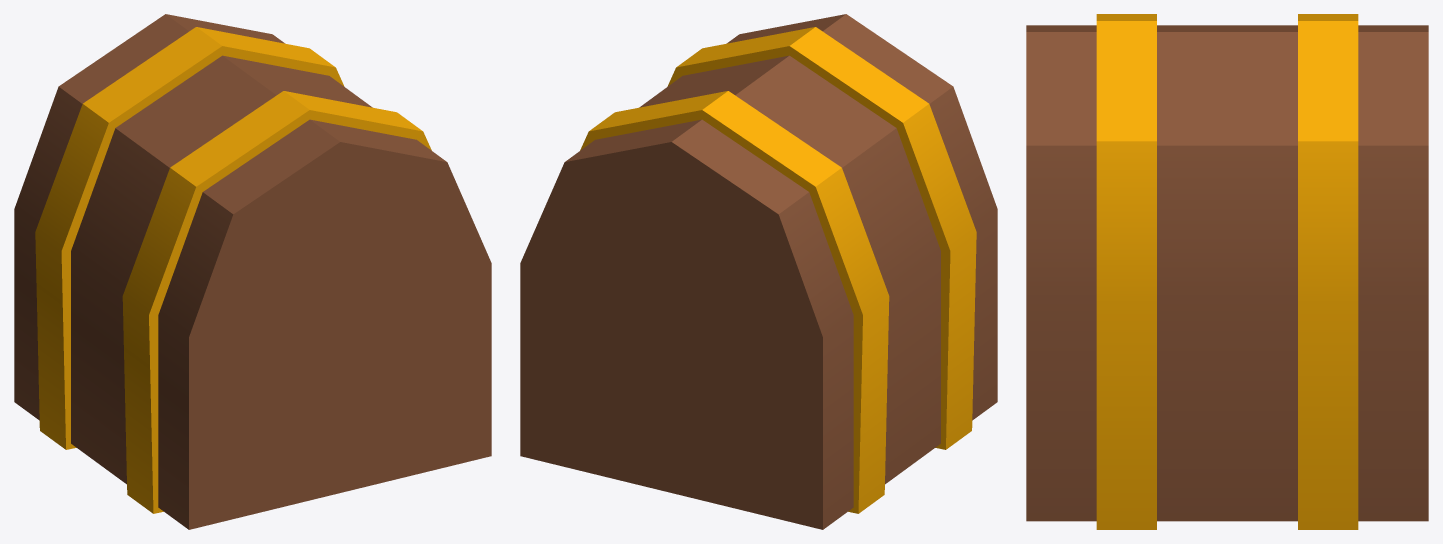
The model's file is Chest1.fbx.
3 renders of one model, left to right at view 1: azimuth 30°, elevation 25°; view 2: azimuth 150°, elevation 25°; view 3: azimuth 270°, elevation 25°, orthographic. The views are drawn at different scales.
Parts seen in each view (by area): view 1: cangbaoxiang; view 2: cangbaoxiang; view 3: cangbaoxiang.
Part boxes in pixels (<box>): cangbaoxiang: <box>14,14,491,529</box>; cangbaoxiang: <box>520,14,997,529</box>; cangbaoxiang: <box>1026,14,1428,529</box>.
Bounding box in the file's own units: 3.11 × 3.43 × 2.93.
